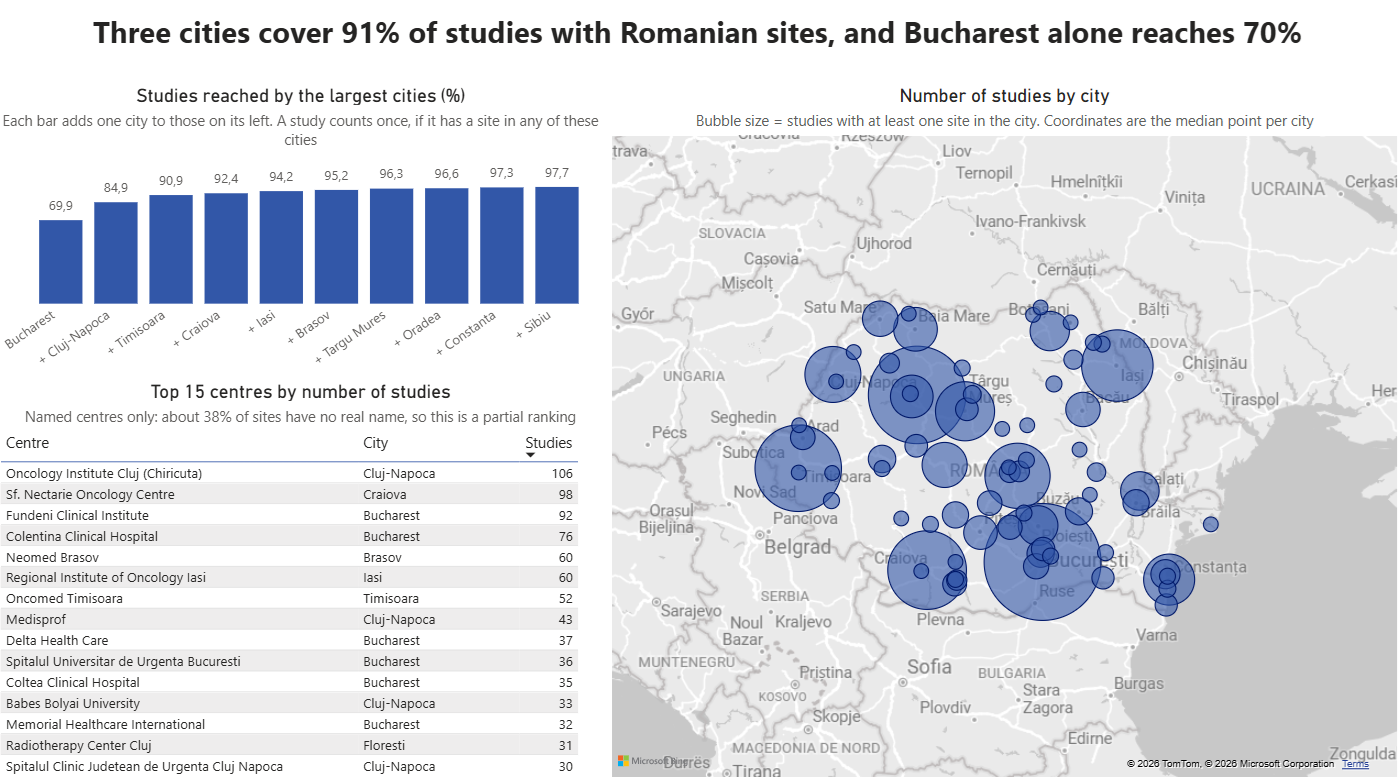

What the dashboard file says about the page in this screenshot:
{"tool":"powerbi","page":{"name":"Sites","canvas":[1280,720],"ordinal":2},"visuals":[{"type":"clusteredColumnChart","title":"Studies reached by the largest cities (%)","fields":{"Category":["city_concentration.cityLabel"],"Y":["Sum(city_concentration.cumPct)"]},"box":[0,85.5,557.3,269.1],"z":0},{"type":"map","title":"Number of studies by city","fields":{"Y":["city_coords.lat"],"X":["city_coords.lon"],"Size":["Sum(studies_per_city.studies)"]},"box":[557.3,85.5,722.7,634.5],"z":1000},{"type":"tableEx","title":"Top 15 centres by number of studies","fields":{"Values":["top_named_centres.facility","top_named_centres.city","Sum(top_named_centres.studies)"]},"box":[0,354.5,557.3,365.5],"z":1001},{"type":"textbox","box":[70,14.5,1139.1,48.2],"z":1002}]}

Visuals, with their boxes in screenshot pixels (x1, y1, x2, y2), scaled from the page's 1280x720 canvas onto the 1398x779 screenshot:
"Studies reached by the largest cities (%)" clusteredColumnChart: x1=0, y1=93, x2=609, y2=384
"Number of studies by city" map: x1=609, y1=93, x2=1397, y2=778
"Top 15 centres by number of studies" tableEx: x1=0, y1=384, x2=609, y2=778
textbox: x1=76, y1=16, x2=1321, y2=68
